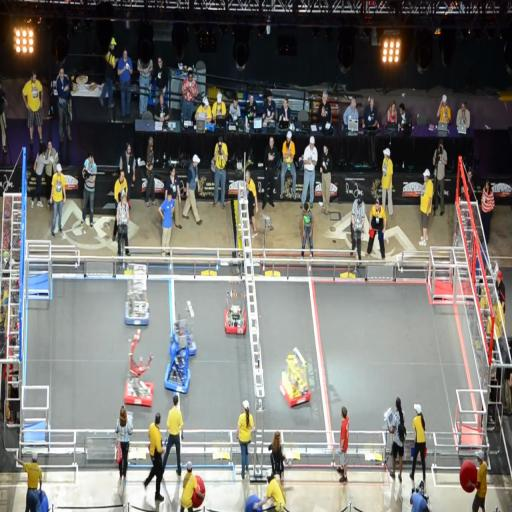robot: (122, 328, 154, 410), (280, 346, 311, 409), (122, 261, 151, 327), (166, 336, 192, 396), (224, 275, 248, 336), (171, 314, 197, 355)
